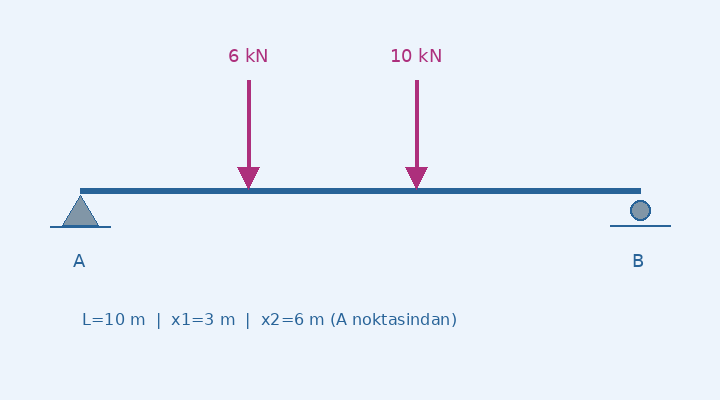pin_support: (61, 190, 99, 226)
point_load: (234, 76, 262, 190), (402, 76, 430, 190)
roller_support: (625, 196, 655, 227)
